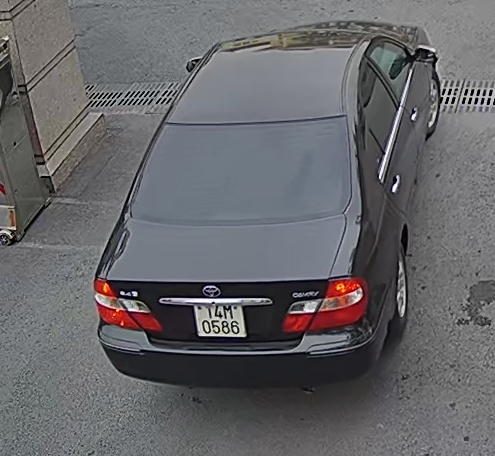vehicle plate: (188, 299, 247, 342)
